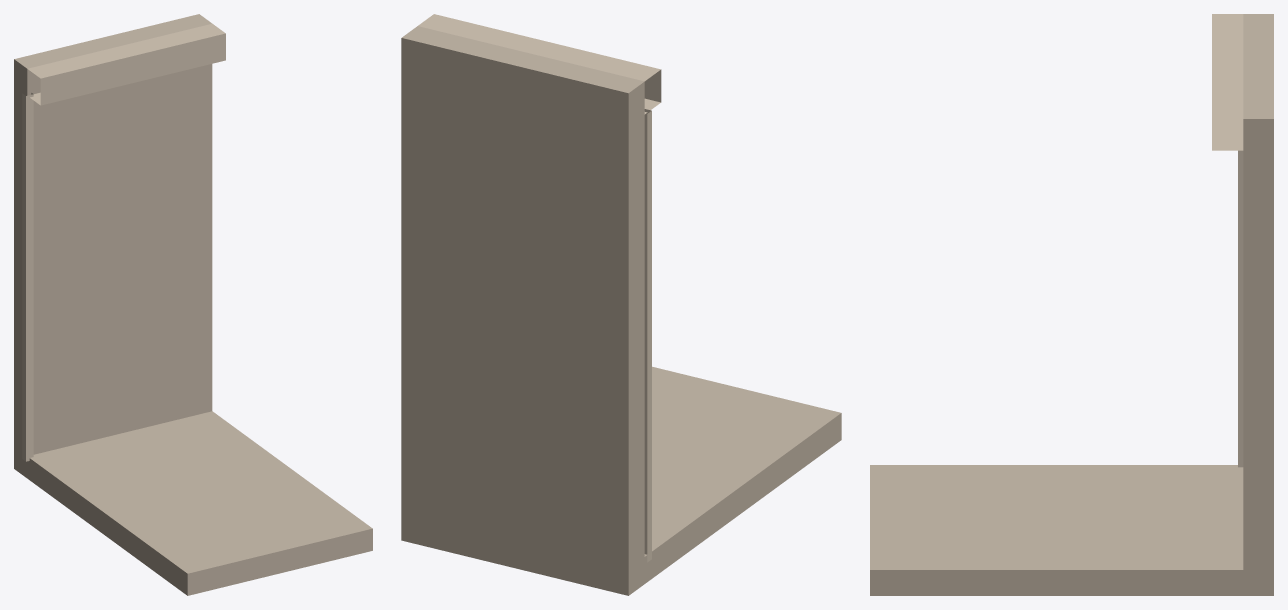
Rendered from BuildingSegment.fbx.
The picture shows the model from 3 angles, left to right: view 1: azimuth 30°, elevation 25°; view 2: azimuth 150°, elevation 25°; view 3: azimuth 270°, elevation 25°; orthographic projection. The views are drawn at different scales.
Visible parts, largest first — view 1: Cube, Cube.002, Cube.003; view 2: Cube, Cube.002, Cube.003; view 3: Cube, Cube.002, Cube.003.
Part boxes in pixels (bbox=[...]): Cube: bbox=[14, 14, 372, 595]; Cube.002: bbox=[27, 23, 225, 105]; Cube.003: bbox=[22, 93, 33, 461]; Cube: bbox=[401, 26, 841, 595]; Cube.002: bbox=[418, 14, 661, 114]; Cube.003: bbox=[644, 109, 651, 562]; Cube: bbox=[870, 14, 1273, 595]; Cube.002: bbox=[1212, 14, 1243, 150]; Cube.003: bbox=[1238, 150, 1243, 467].
Bounding box in the file's own units: 204 × 423 × 325.
